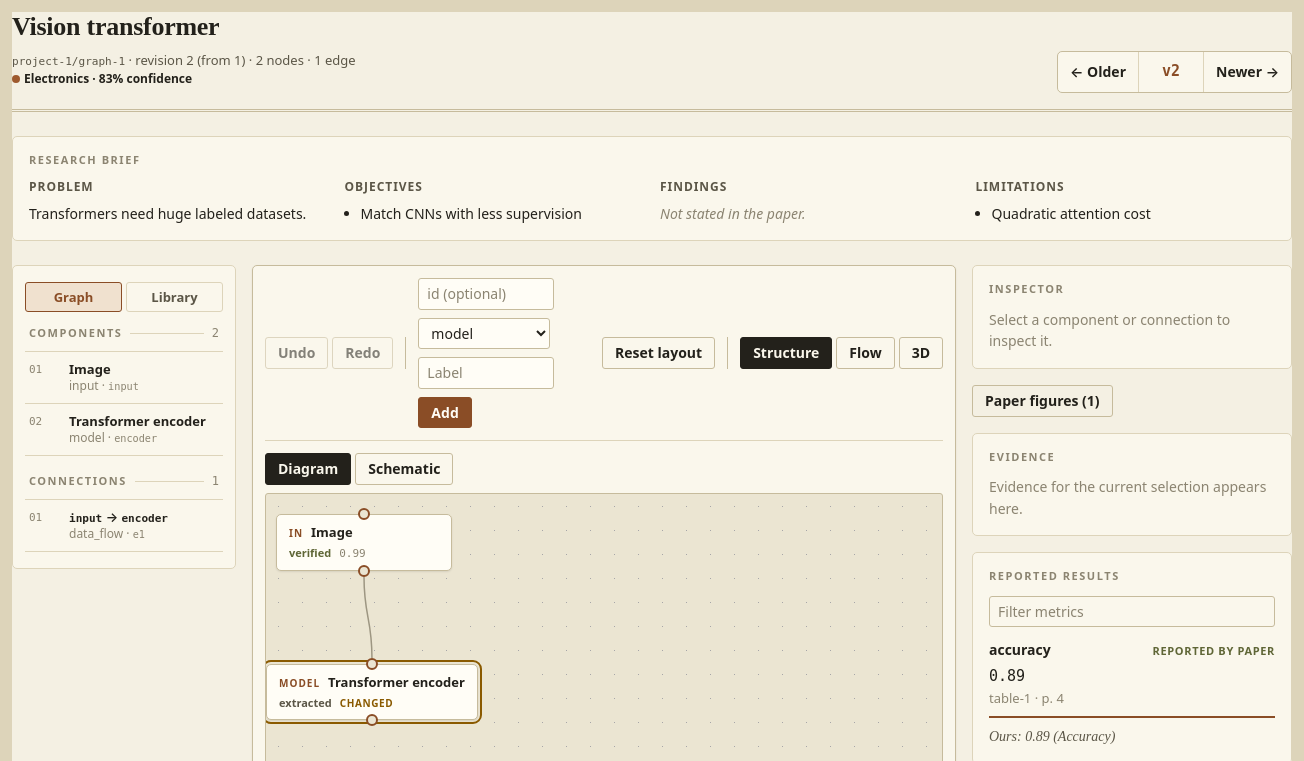
Test: canvas editing › surfaces server patch rejections with code and details
This screenshot has width=1304, height=761.
Expected: the heading "Vision transformer" is shown, [12,12,219,41]
In the field named "Node label": (486, 373) [418,357,554,389], type "Head"
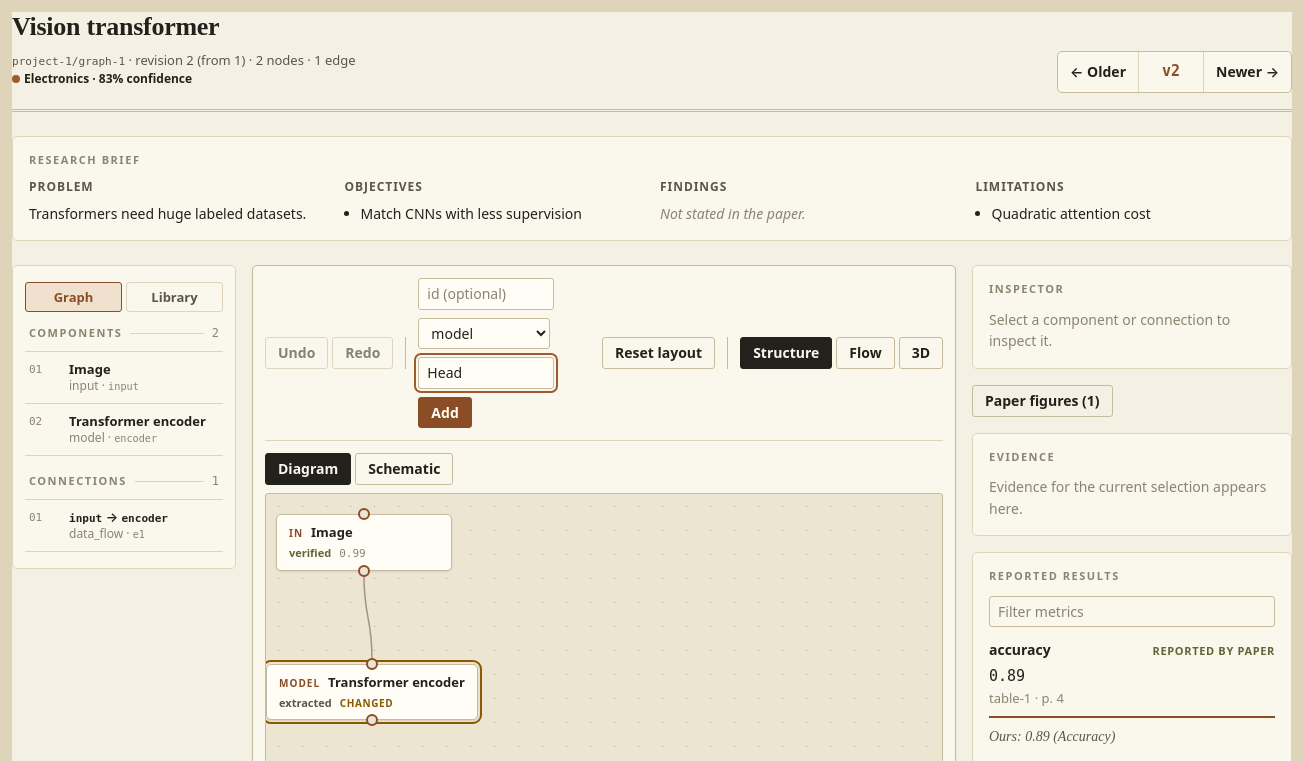
Click the button "Add": (445, 412) [418,397,472,428]
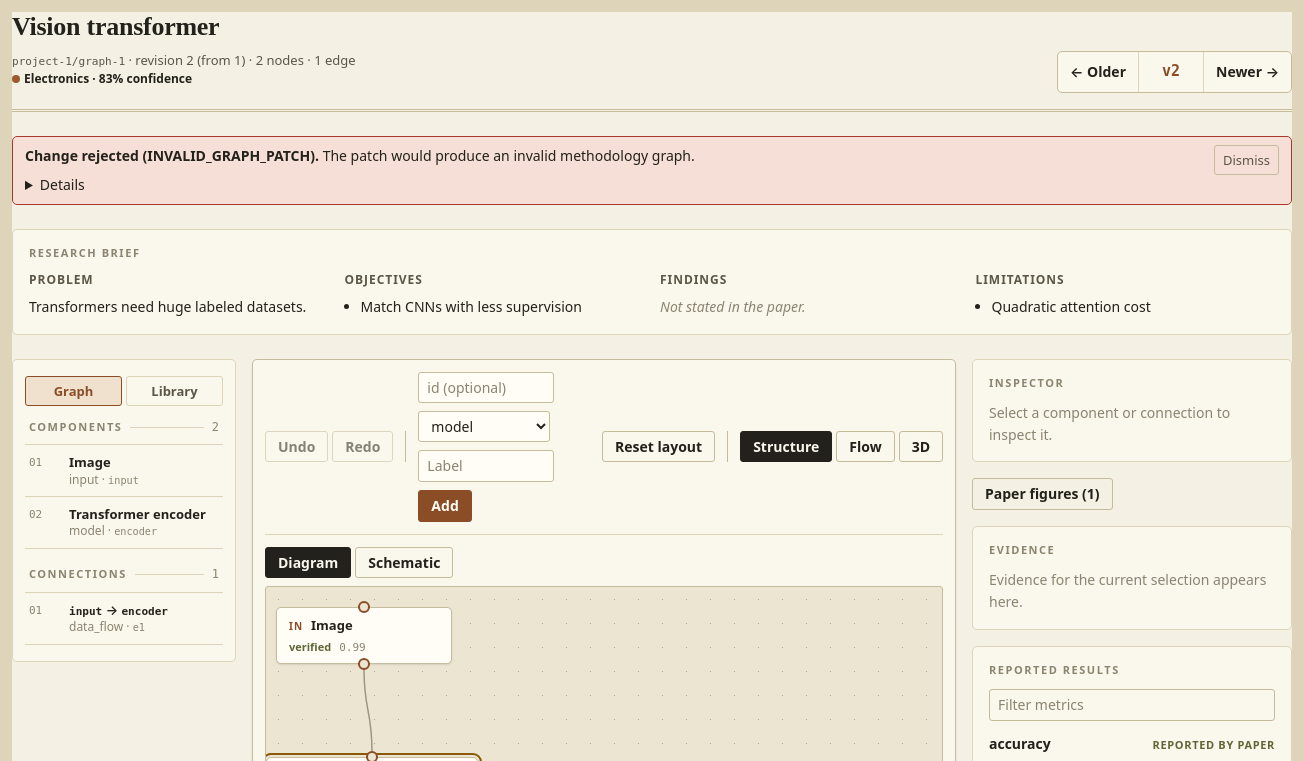
Expected: the message shows "INVALID_GRAPH_PATCH", [147,146,310,165]
